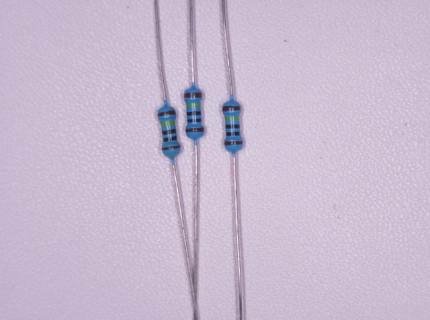Black band: (163, 136, 177, 142), (163, 129, 176, 135), (226, 125, 240, 129), (226, 132, 240, 136), (188, 119, 201, 123), (187, 112, 200, 116)
Brown band: (158, 111, 175, 117), (223, 106, 241, 111), (185, 93, 202, 98), (163, 146, 180, 151), (186, 128, 204, 132), (225, 141, 243, 145)
Yellow band: (161, 121, 175, 127), (186, 104, 200, 108), (225, 117, 239, 121)
